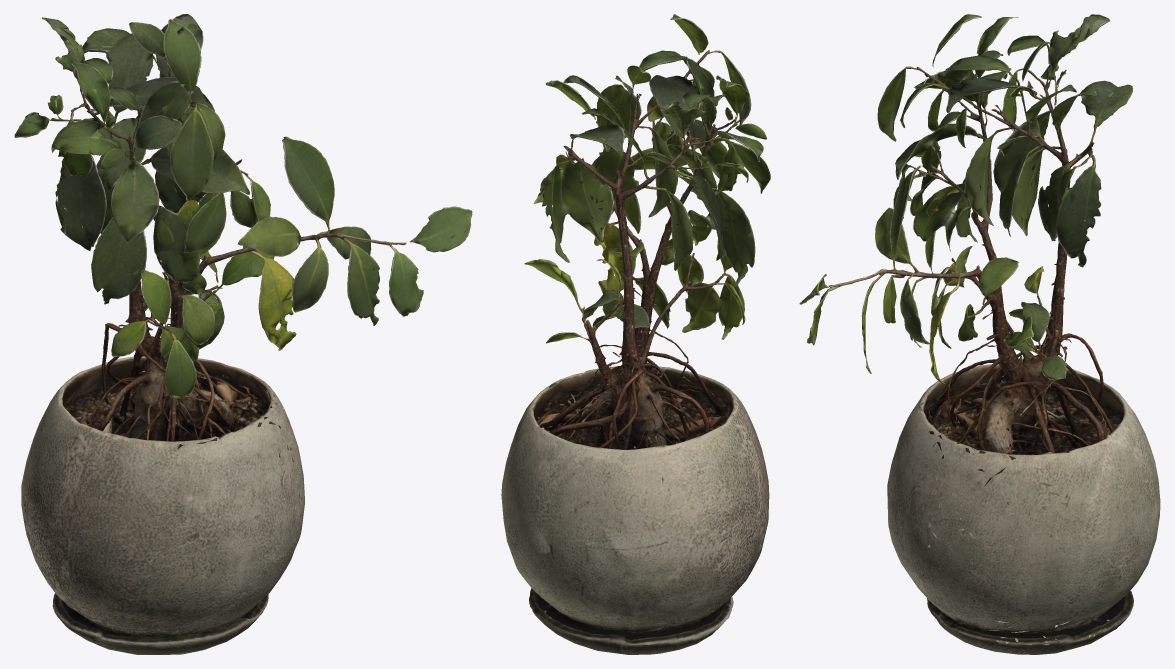
Rendered from skb9bbb7b0.glb.
3 views of the same model, side by side, from view 1: azimuth 30°, elevation 25°; view 2: azimuth 150°, elevation 25°; view 3: azimuth 270°, elevation 25° (orthographic). The views are drawn at different scales.
Parts seen in each view (by area): view 1: Object_2, Object_3; view 2: Object_2, Object_3; view 3: Object_2, Object_3.
Part boxes in pixels (x1,y1,x2,y2): Object_2: [21, 14, 472, 654]; Object_3: [14, 14, 320, 543]; Object_2: [501, 50, 770, 654]; Object_3: [531, 14, 770, 614]; Object_2: [799, 20, 1160, 654]; Object_3: [895, 14, 1114, 646].
Size of the model in its own units: 0.237 by 0.42 by 0.2295.
Materials: 1 (1 with a texture image).
